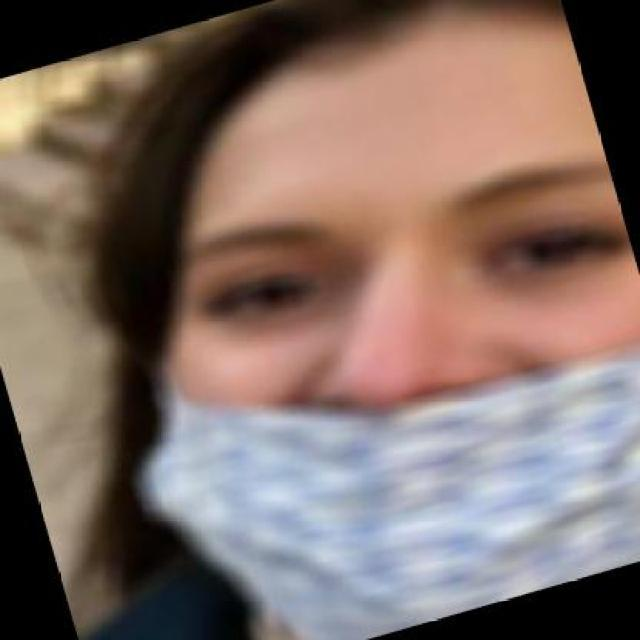hairnet: (52, 0, 638, 638)
